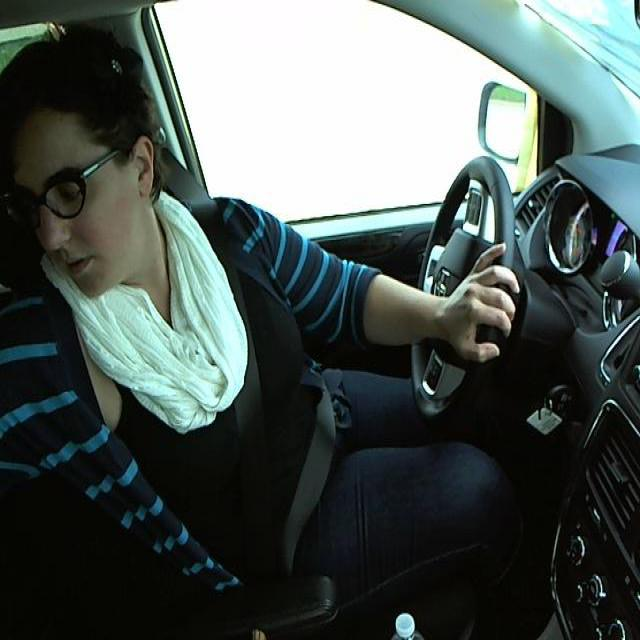seatbelt: (195, 209, 343, 571)
